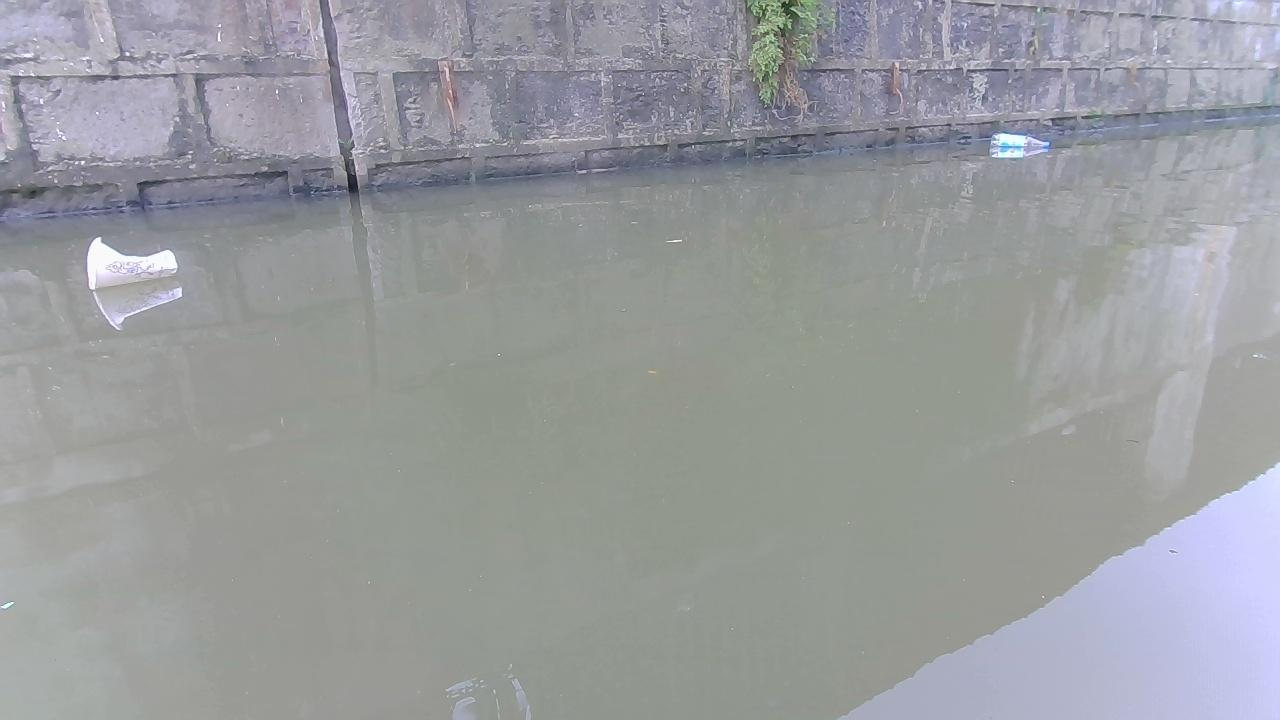bottle: (79, 237, 176, 287), (983, 130, 1051, 152)
